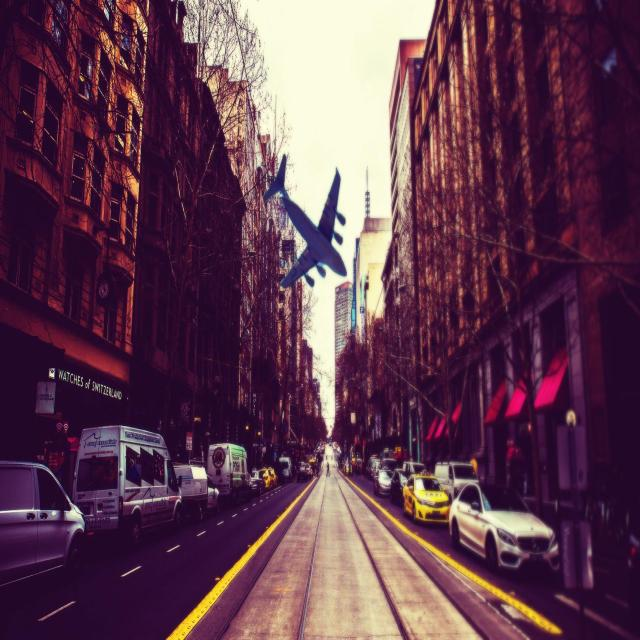airplane: (262, 153, 347, 288)
